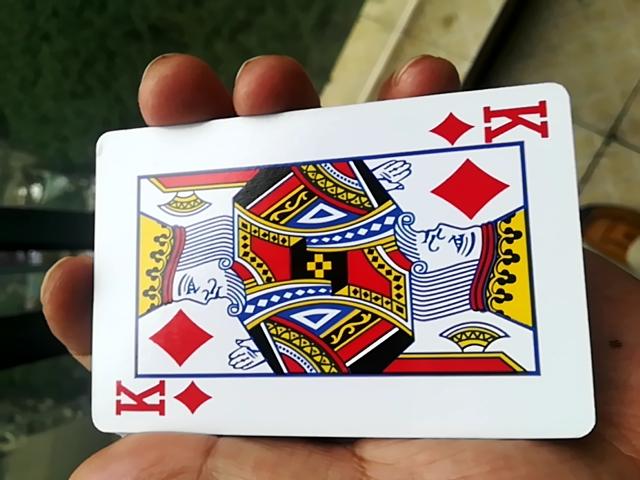fk k: (81, 95, 587, 449)
